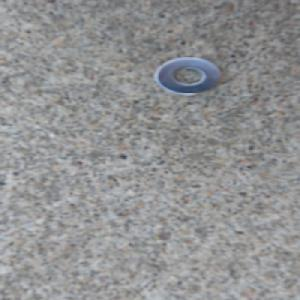Washer: (152, 56, 224, 97)
